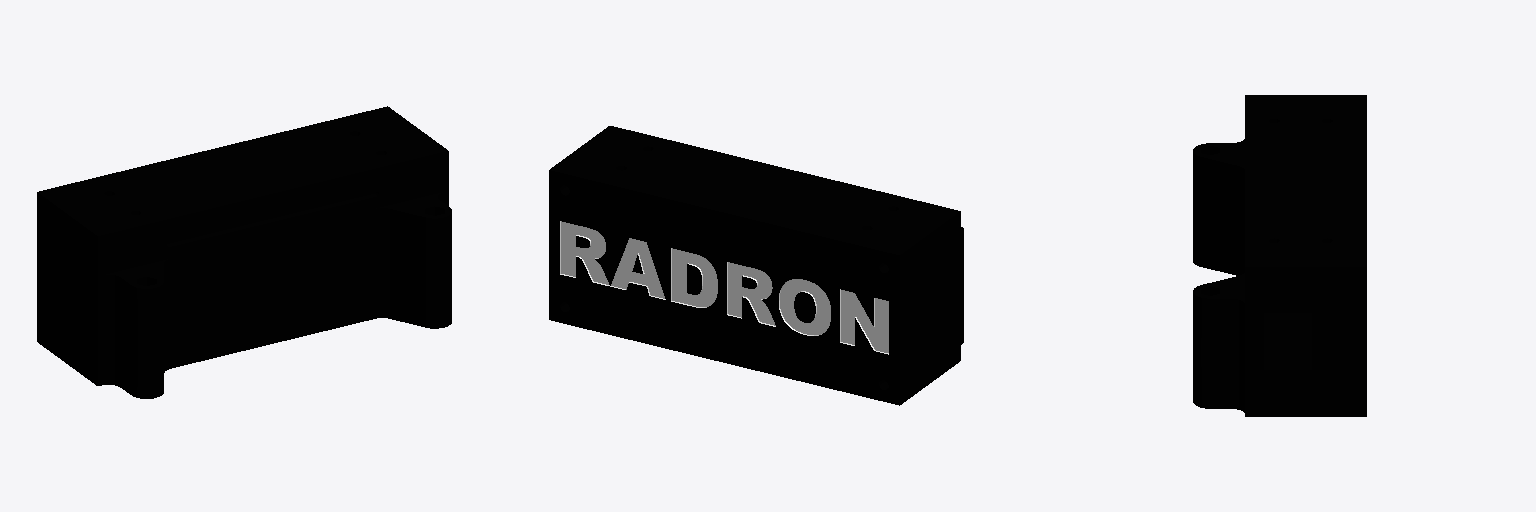
Rendered from f330_compton_holder.obj.
3 renders of one model, left to right at view 1: azimuth 30°, elevation 25°; view 2: azimuth 150°, elevation 25°; view 3: azimuth 270°, elevation 25°, orthographic.
Parts seen in each view (by area): view 1: obj1; view 2: obj1; view 3: obj1.
Boxes of the visible parts, x1=… form: obj1: x1=37, y1=106, x2=451, y2=398; obj1: x1=549, y1=126, x2=963, y2=405; obj1: x1=1193, y1=95, x2=1366, y2=416.
Bounding box in the file's own units: 0.11 × 0.045 × 0.0472.